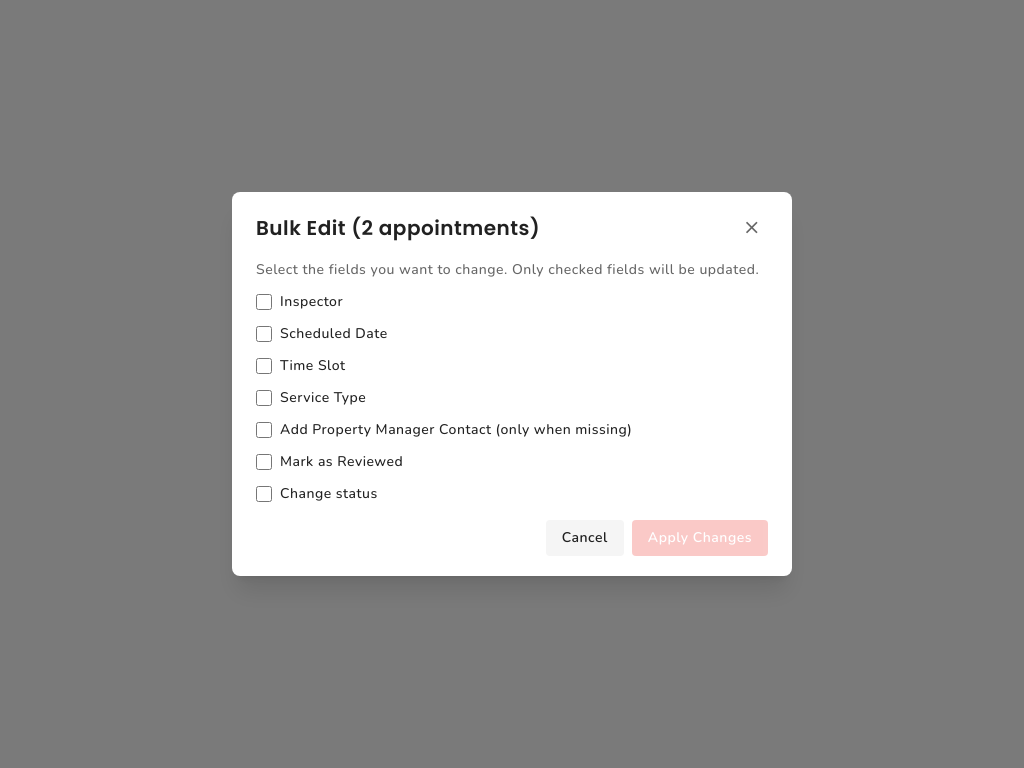
Test case: BulkEditModal › Change status › offers only targets EVERY selected row can reach (intersection, not union)
The width and height of the screenshot is (1024, 768).
Step 1. Click the checkbox labelled "Change status" → click(264, 494), box x1=256 y1=486 x2=272 y2=502
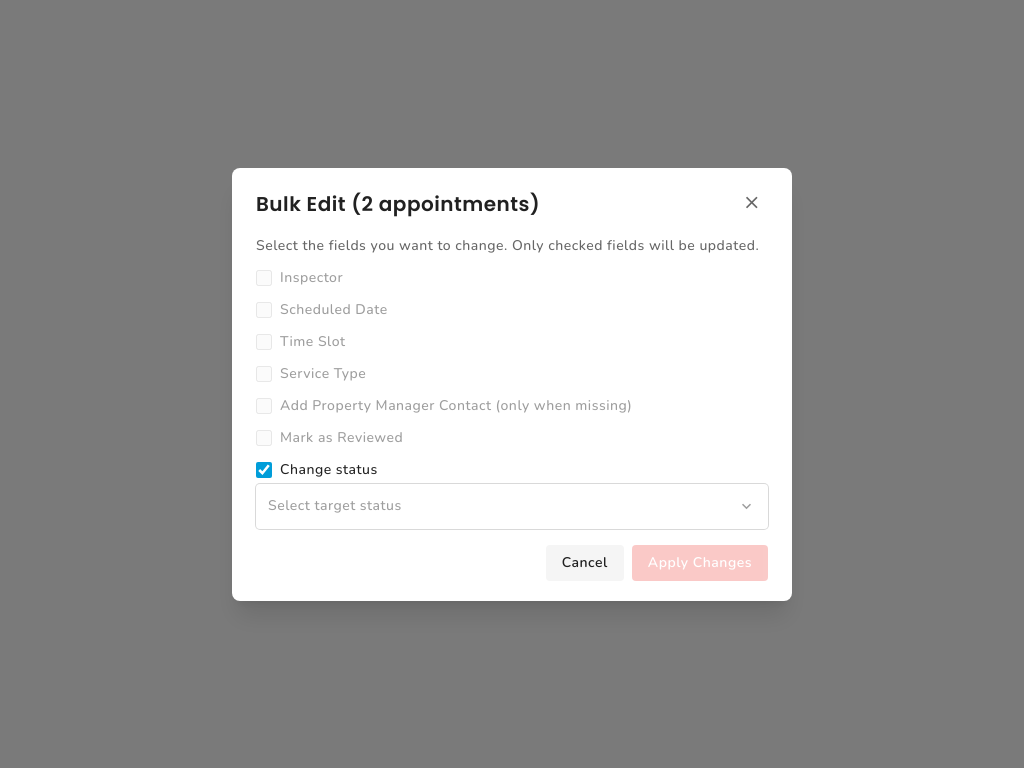
Step 2. Click the button with aria-label "Set target status" → click(335, 506), box x1=256 y1=484 x2=768 y2=528
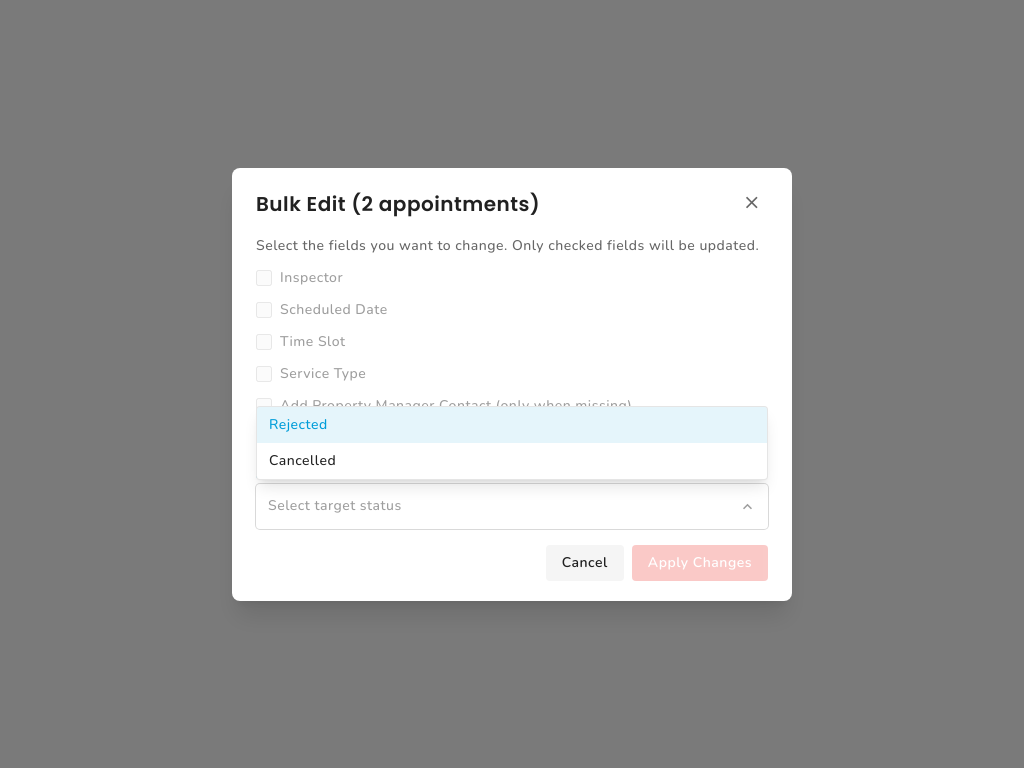
Result: the option "Rejected" is shown at x1=257 y1=406 x2=767 y2=442
Result: the option "Cancelled" is shown at x1=269 y1=450 x2=336 y2=470
